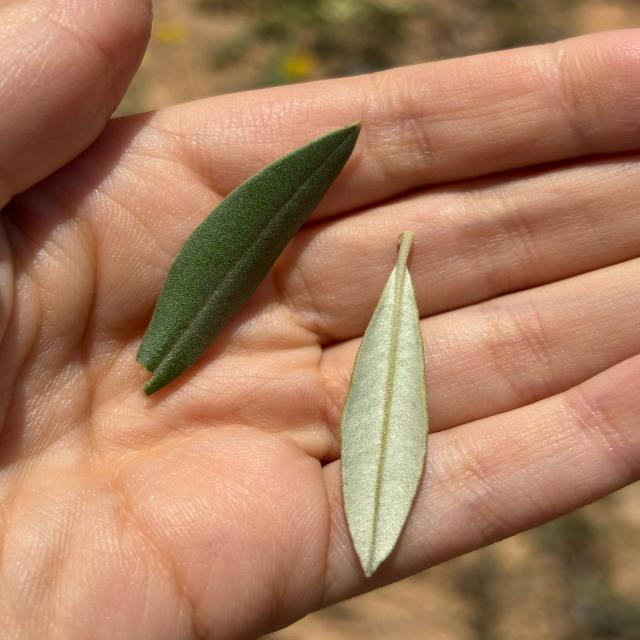Healthy: (137, 123, 360, 395), (340, 232, 429, 578)
